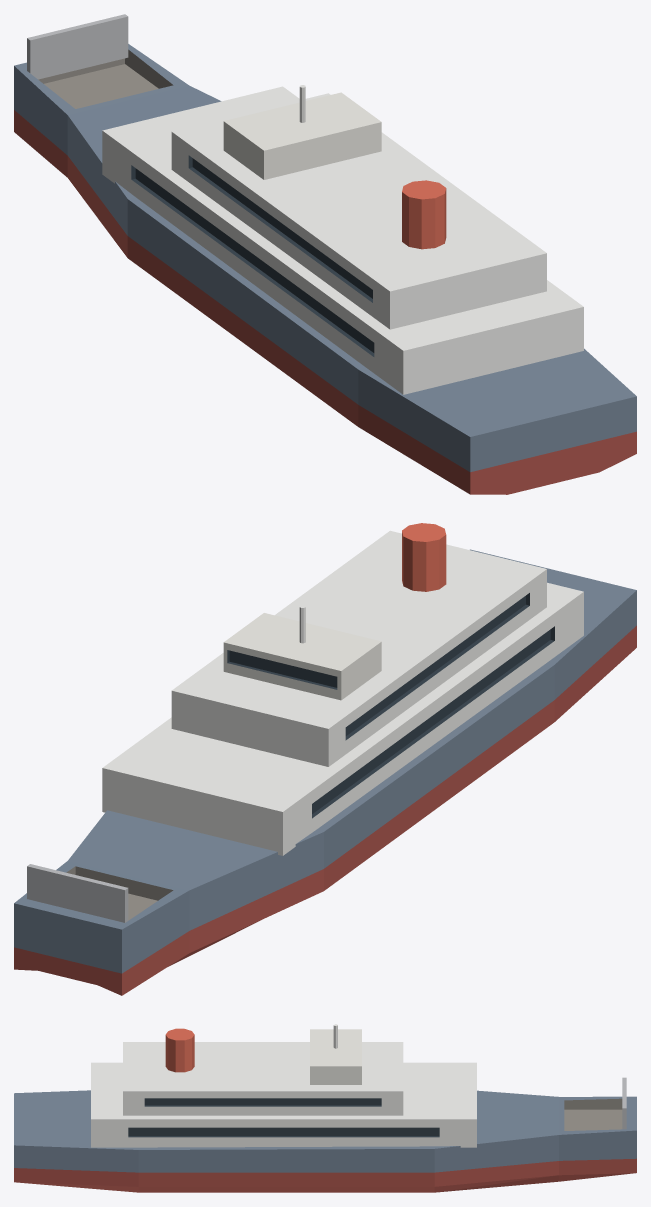
File: ferry.glb
3 renders of one model, top to bottom at view 1: azimuth 30°, elevation 25°; view 2: azimuth 150°, elevation 25°; view 3: azimuth 270°, elevation 25°, orthographic. The views are drawn at different scales.
Visible parts, largest first — view 1: ferry; view 2: ferry; view 3: ferry.
Part boxes in pixels (box(x1,y1,x2,y2)): ferry: box(14, 14, 636, 494); ferry: box(14, 523, 636, 995); ferry: box(14, 1024, 636, 1192).
Size of the model in its own units: 14 by 16 by 60.
